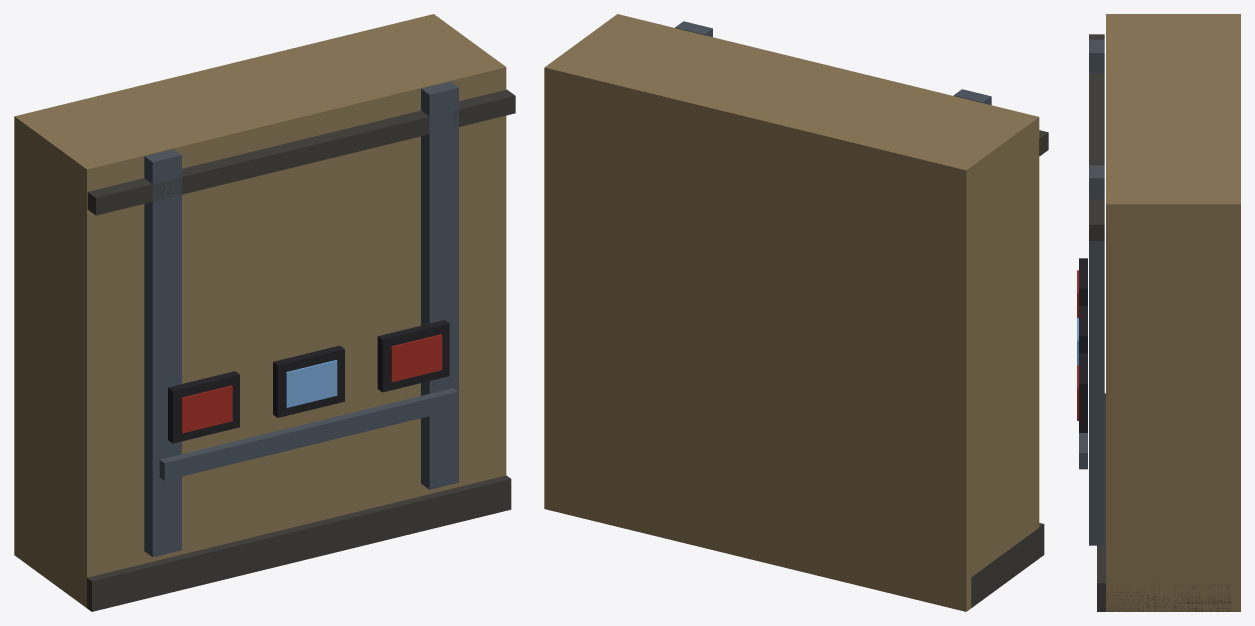
The model's file is separatist_wall_detail.glb.
3 views of the same model, side by side, from view 1: azimuth 30°, elevation 25°; view 2: azimuth 150°, elevation 25°; view 3: azimuth 270°, elevation 25° (orthographic). The views are drawn at different scales.
Visible parts, largest first — view 1: separatist_wall_detail; view 2: separatist_wall_detail; view 3: separatist_wall_detail.
Boxes of the visible parts, box(x1,y1,x2,y2) form: separatist_wall_detail: box(14, 14, 515, 611); separatist_wall_detail: box(544, 14, 1048, 611); separatist_wall_detail: box(1077, 14, 1240, 611).
Size of the model in its own units: 1 by 1 by 0.364.
